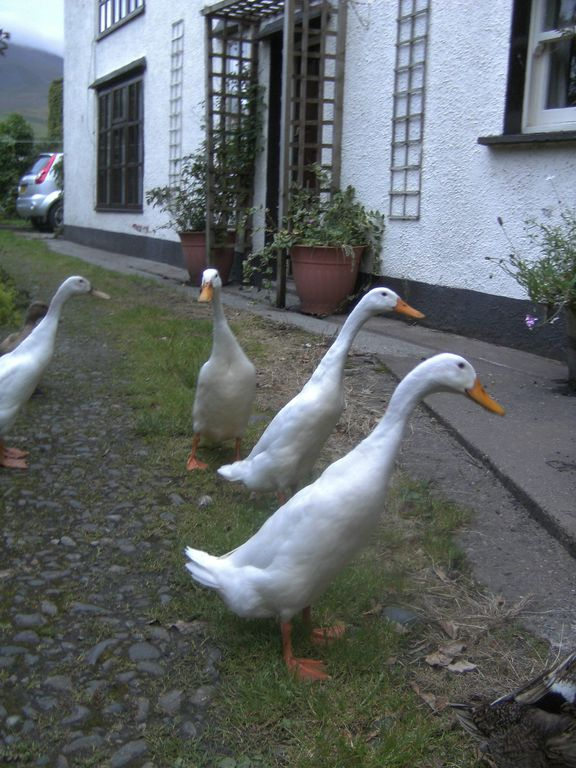Mencari Makan di Lumpur: (466, 378, 506, 424), (388, 297, 427, 324), (197, 283, 217, 309)
